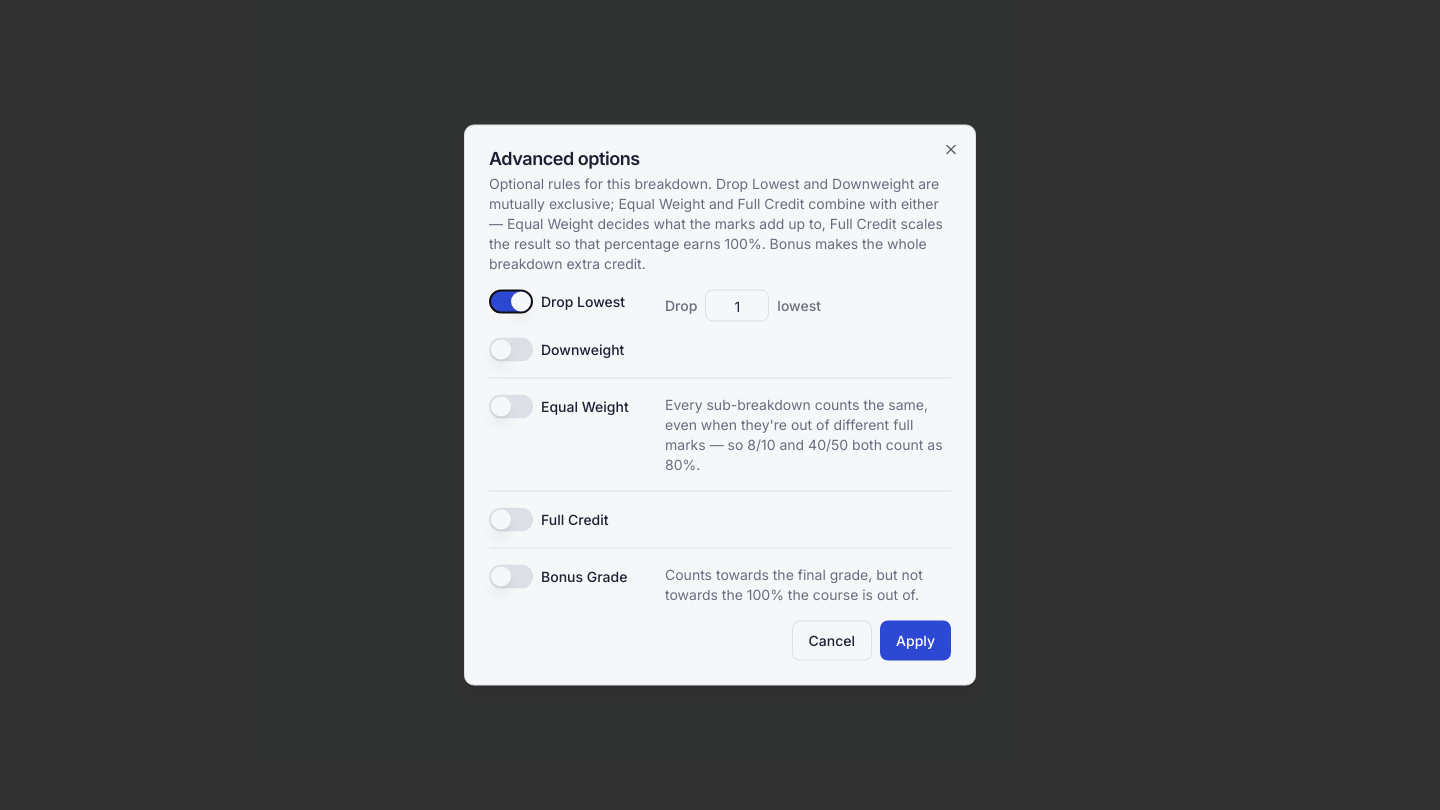
it: AdvancedOptionsDialog › refuses a switched-on option with an empty box, and says which
This screenshot has width=1440, height=810.
Clear the number field named "Number to drop" at (737, 306), box [705, 290, 769, 322]
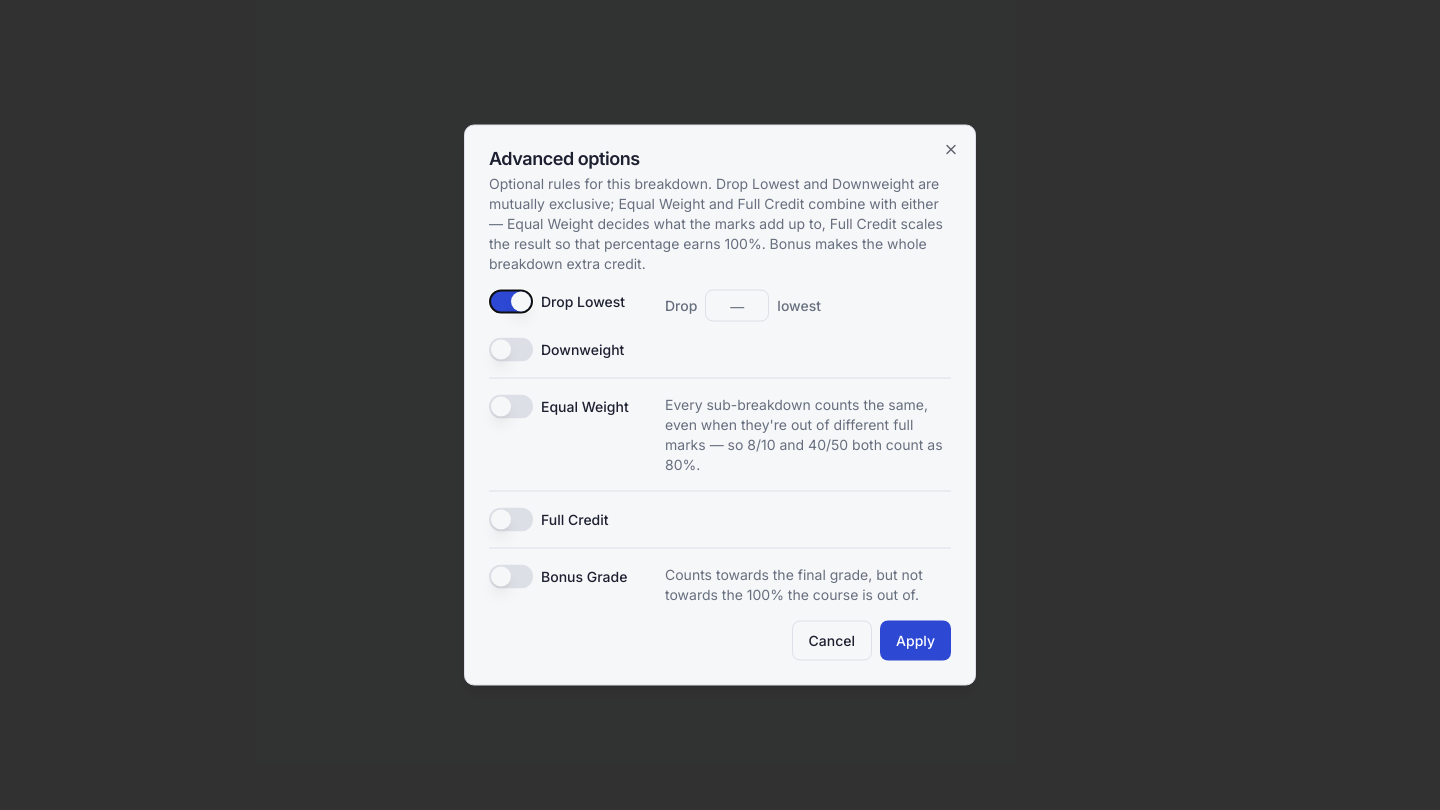
Click the button "Apply".
click(916, 640)  # box [880, 620, 951, 660]
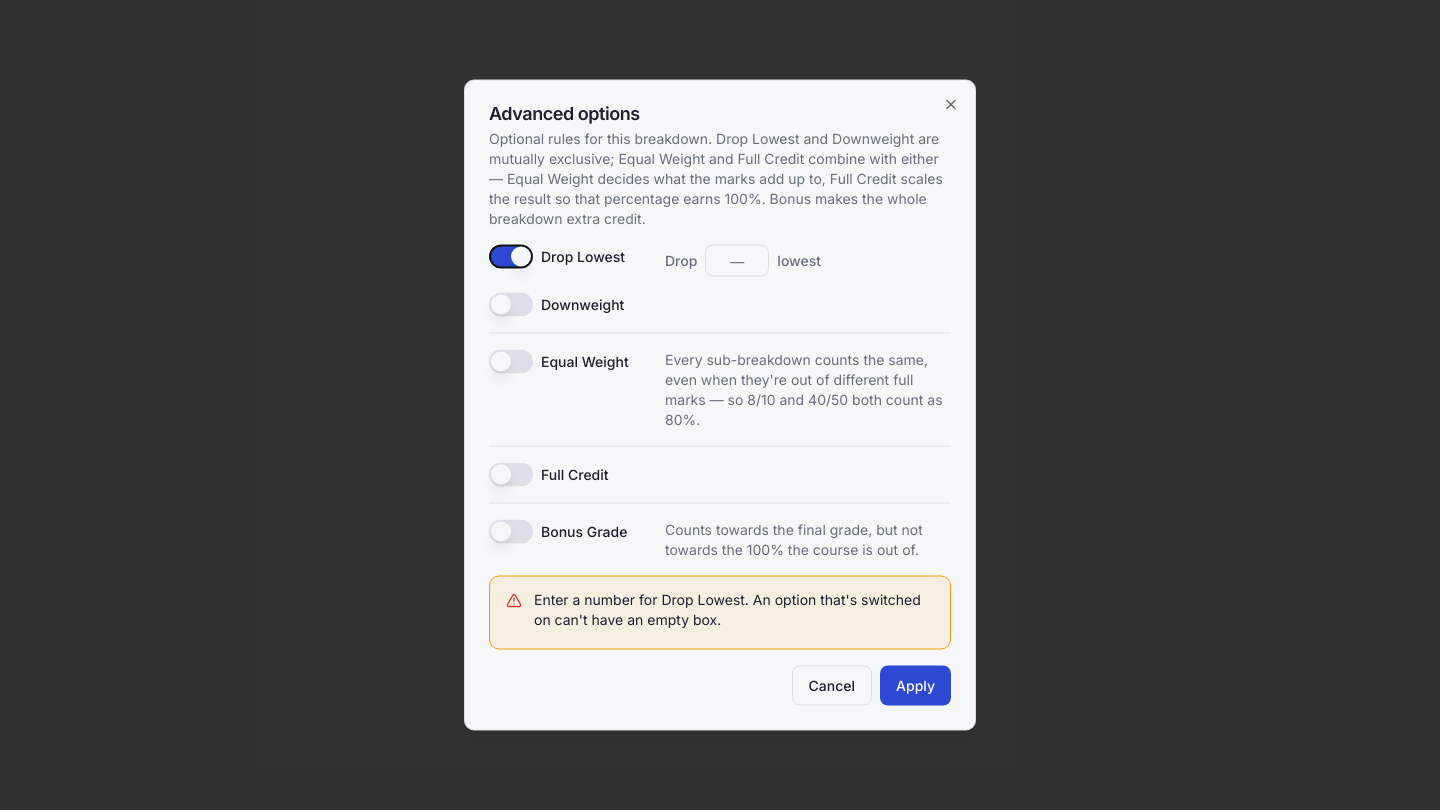
Expected: the text "can't have an empty box" shows "Drop", [534, 590, 921, 628]
